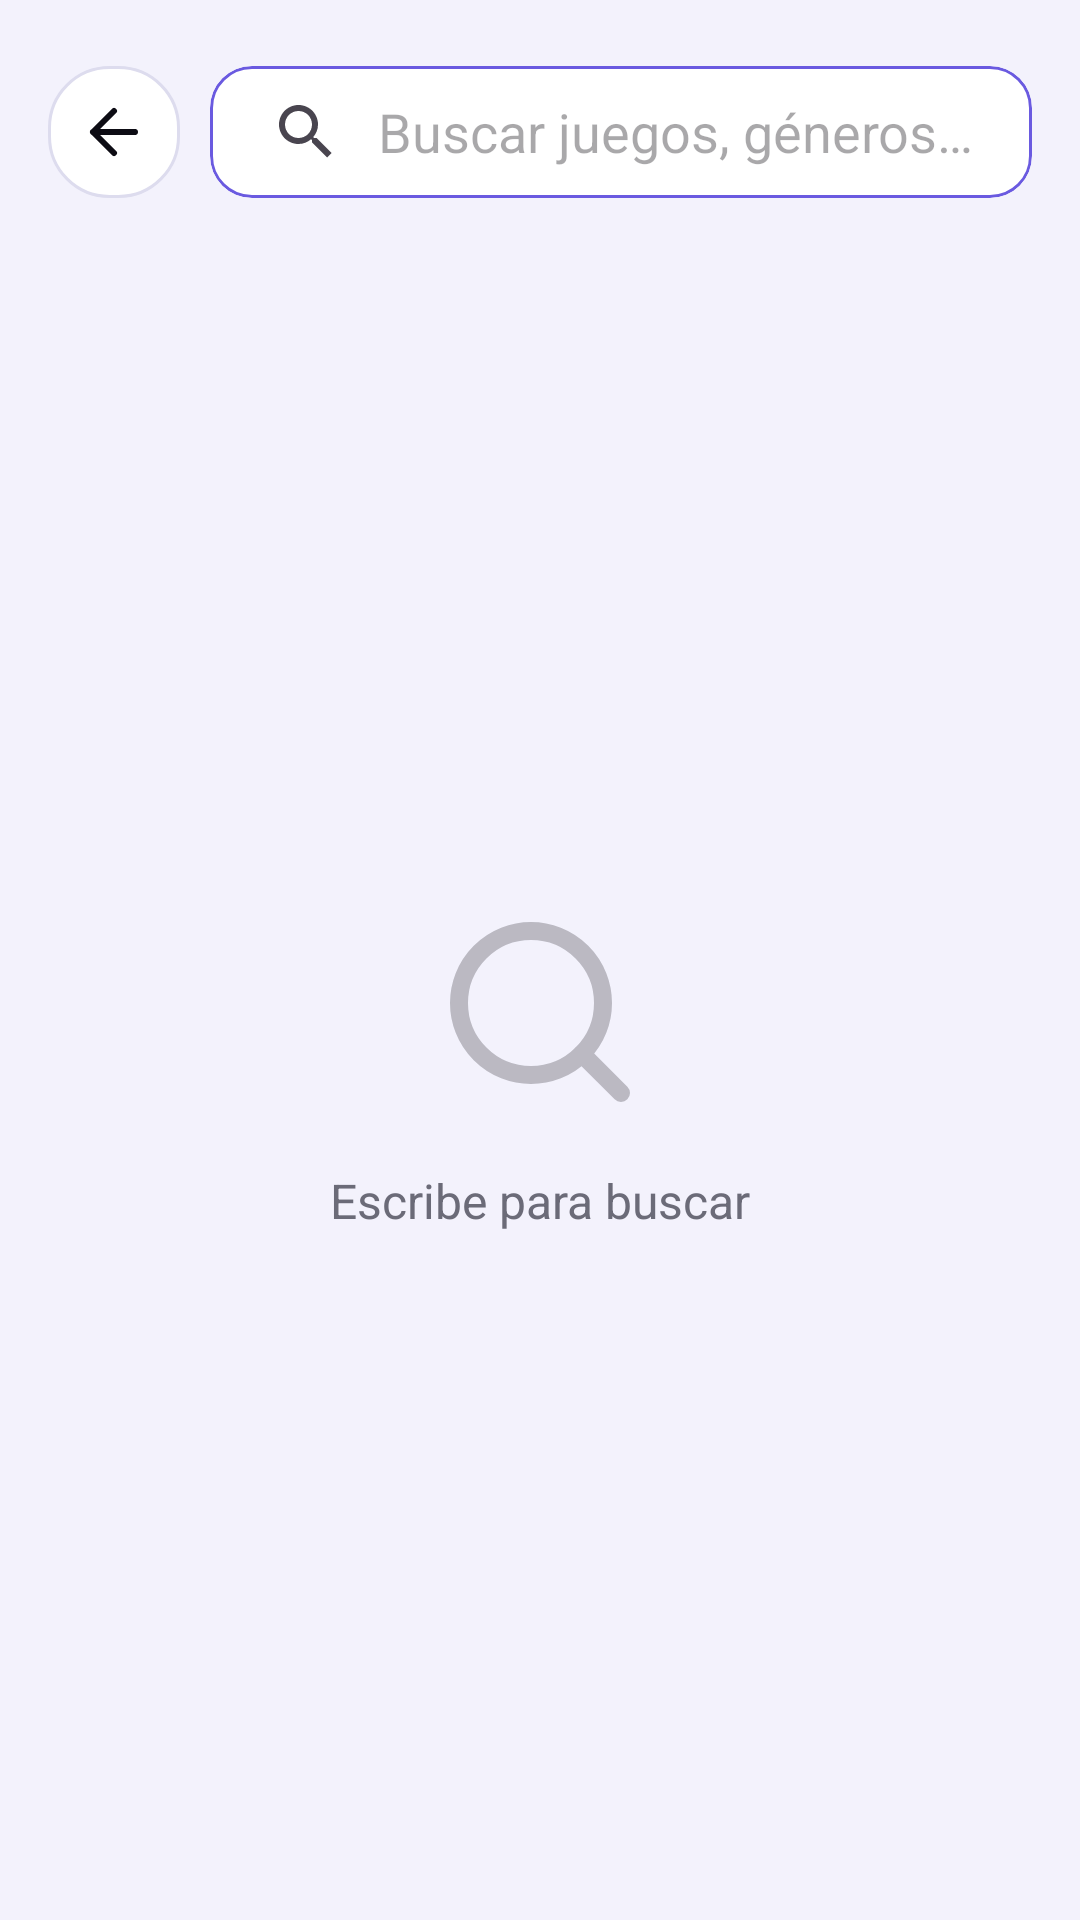

Named icons in this screenshot (1080w x 1920h) and their bounding boxes, (x1, y1, x2, y2):
Atrás: (48, 66, 180, 198)
